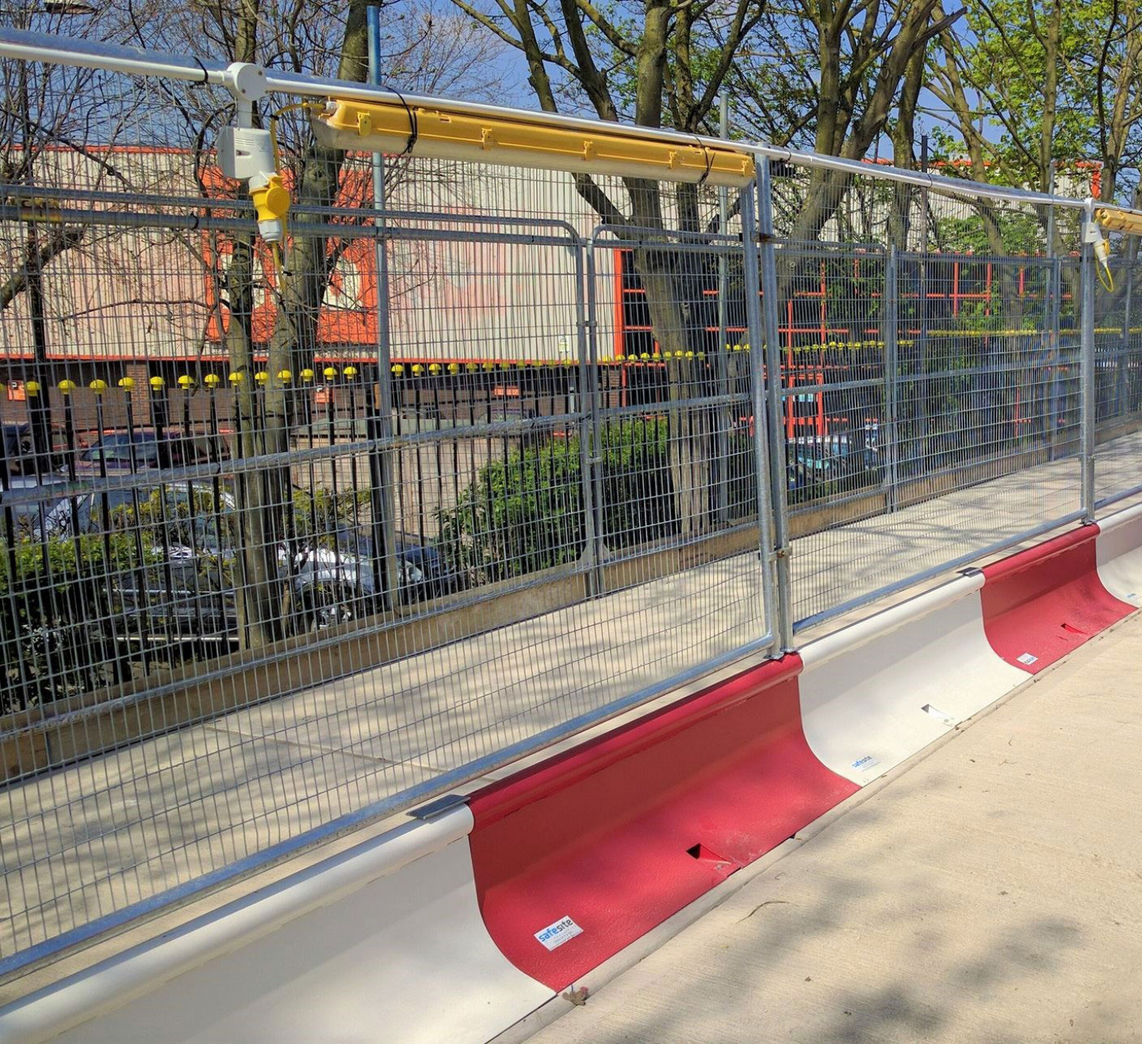Barrier: (21, 17, 1124, 922)
